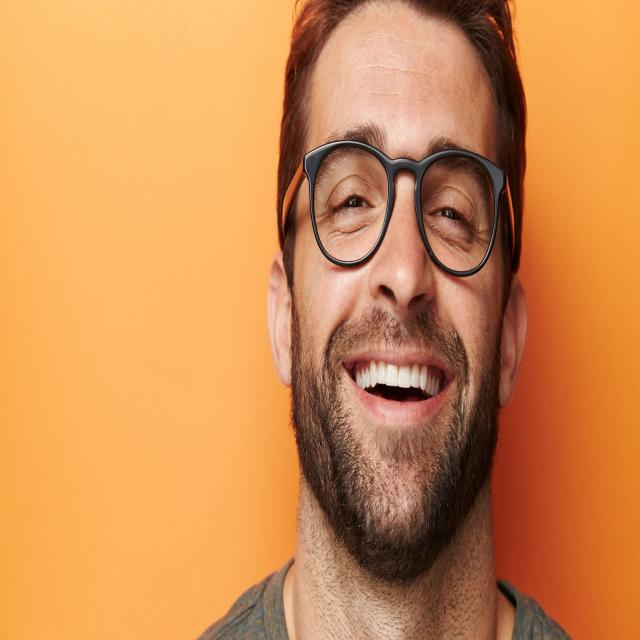Glasses: (282, 134, 518, 282)
